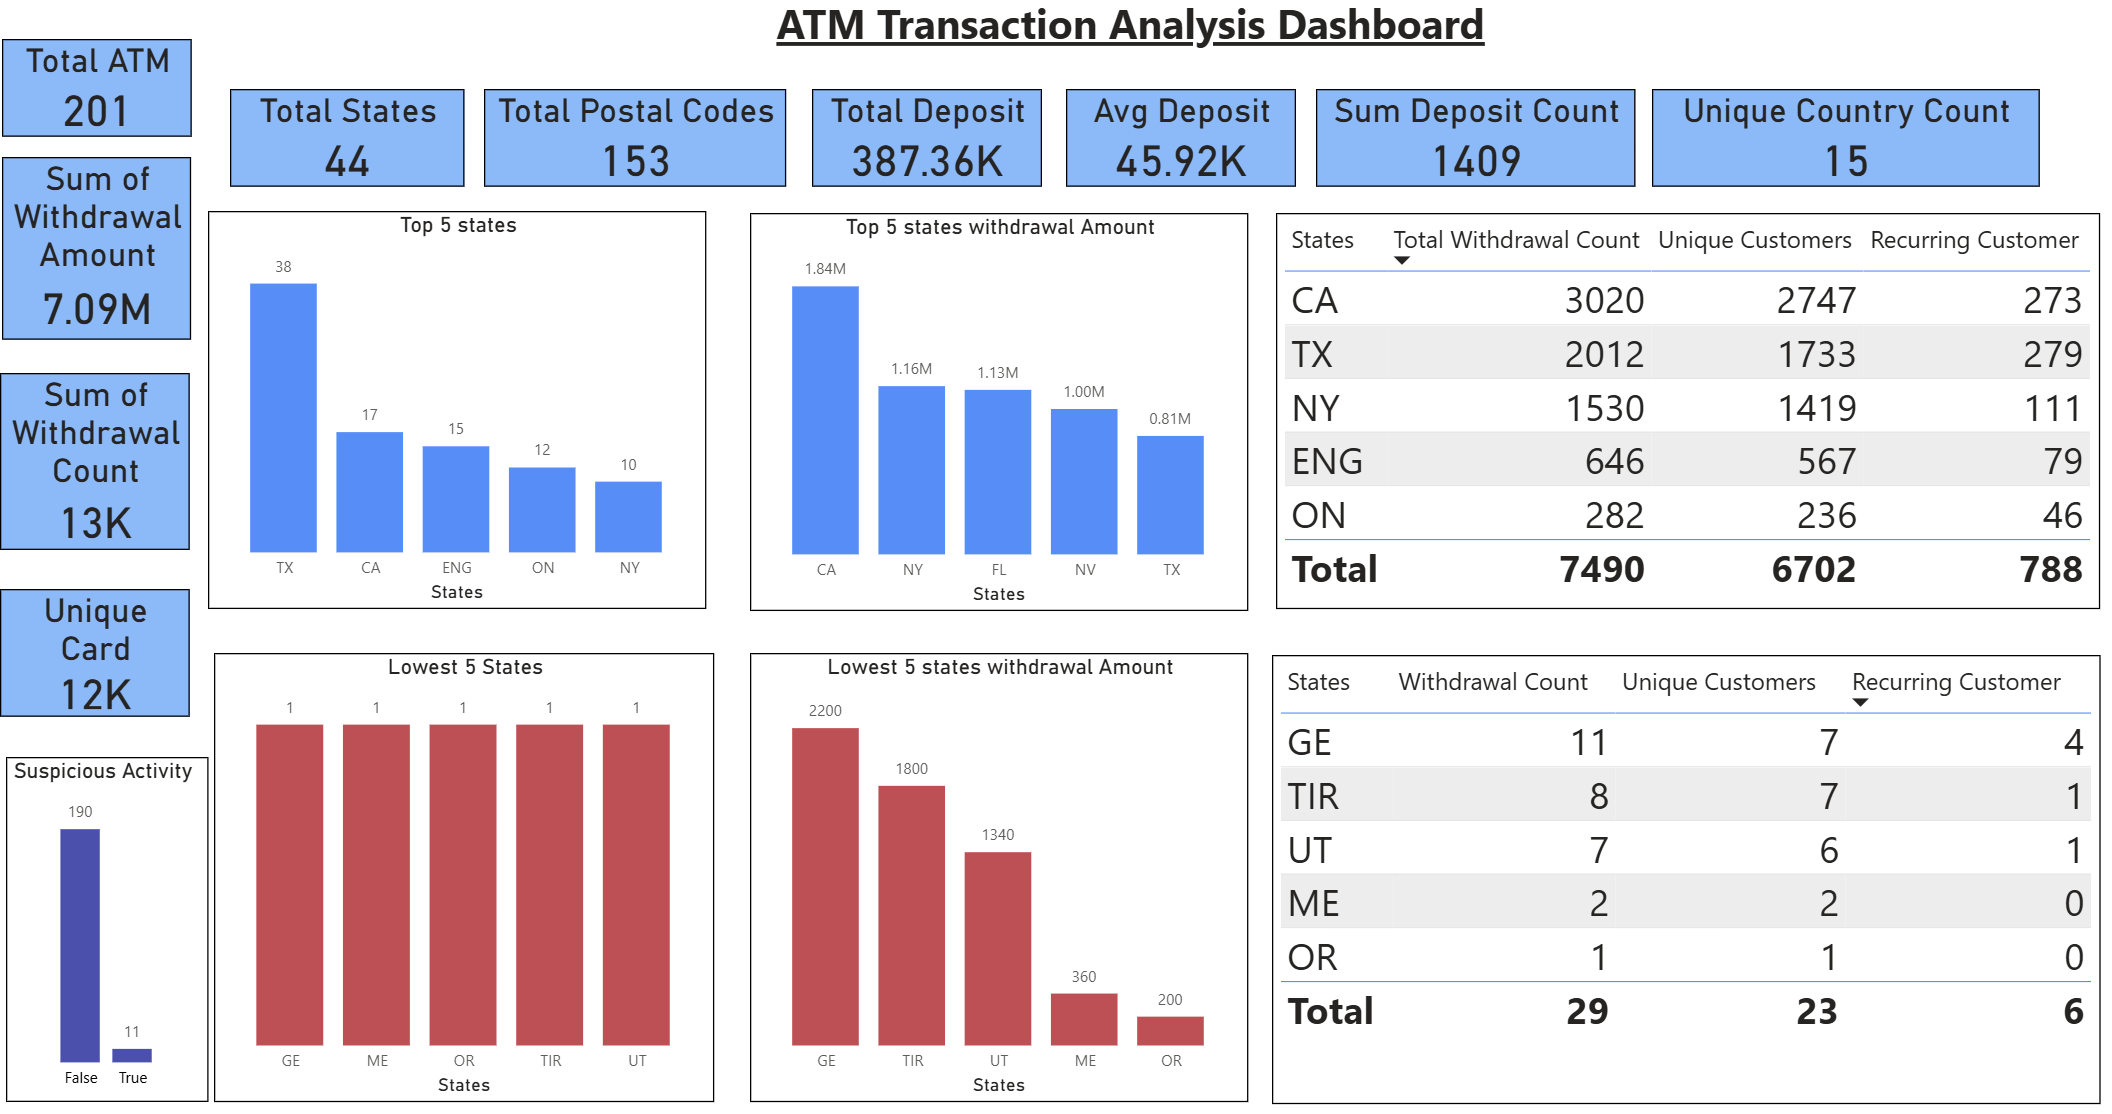

What the dashboard file says about the page in this screenshot:
{"tool":"powerbi","page":{"name":"Page 1","canvas":[1800,900],"ordinal":0},"visuals":[{"type":"card","title":"Total ATM","fields":{"Values":["Count(cleaned_data.atm_id)"]},"box":[10.7,39.8,148.5,76.6],"z":0},{"type":"card","title":"Total States","fields":{"Values":["Count(cleaned_data.location_state)"]},"box":[190,78.3,183.3,76.7],"z":1000},{"type":"card","title":"Total Postal Codes","fields":{"Values":["Count(cleaned_data.location_postal_code)"]},"box":[388.3,78.3,236.7,76.7],"z":2000},{"type":"card","title":"Total Deposit ","fields":{"Values":["Sum(cleaned_data.total_deposit_amount)"]},"box":[645,78.3,180,76.7],"z":3000},{"type":"card","title":"Avg Deposit","fields":{"Values":["Sum(cleaned_data.average_deposit_amount)"]},"box":[843.3,78.3,180,76.7],"z":4000},{"type":"card","title":"Sum Deposit Count","fields":{"Values":["Sum(cleaned_data.total_deposit_count)"]},"box":[1040,78.3,250,76.7],"z":5000},{"type":"card","title":"Sum of Withdrawal Amount","fields":{"Values":["Sum(cleaned_data.total_withdrawal_amount)"]},"box":[10.2,131.3,147.9,142.8],"z":6000},{"type":"card","title":"Sum of Withdrawal Count","fields":{"Values":["Sum(cleaned_data.total_withdrawal_count)"]},"box":[10,300,148.3,138.3],"z":7000},{"type":"card","title":"Unique Card ","fields":{"Values":["Sum(cleaned_data.unique_card_count)"]},"box":[10,470,148.3,100],"z":8000},{"type":"clusteredColumnChart","title":"Top 5 states ","fields":{"Category":["cleaned_data.location_state"],"Y":["CountNonNull(cleaned_data.total_withdrawal_count)"]},"box":[171.7,173.3,390,311.7],"z":9000},{"type":"clusteredColumnChart","title":"Top 5 states withdrawal Amount","fields":{"Category":["cleaned_data.location_state"],"Y":["Sum(cleaned_data.total_withdrawal_amount)"]},"box":[596.7,175,390,311.7],"z":10000},{"type":"clusteredColumnChart","title":"Lowest 5 States","fields":{"Category":["cleaned_data.location_state"],"Y":["CountNonNull(cleaned_data.total_withdrawal_count)"]},"box":[176.7,520,391.7,351.7],"z":11000},{"type":"clusteredColumnChart","title":"Lowest 5 states withdrawal Amount","fields":{"Category":["cleaned_data.location_state"],"Y":["Sum(cleaned_data.total_withdrawal_amount)"]},"box":[596.7,520,390,351.7],"z":12000},{"type":"tableEx","fields":{"Values":["cleaned_data.location_state","Sum(cleaned_data.total_withdrawal_count)","Sum(cleaned_data.unique_card_count)","Sum(cleaned_data.Difference)"]},"box":[1008.3,175,645,310],"z":13000},{"type":"tableEx","fields":{"Values":["cleaned_data.location_state","Sum(cleaned_data.total_withdrawal_count)","Sum(cleaned_data.unique_card_count)","Sum(cleaned_data.Difference)"]},"box":[1005,521.7,648.3,351.7],"z":14000},{"type":"columnChart","title":"Suspicious Activity","fields":{"Category":["cleaned_data.suspicious_activity_flag"],"Y":["CountNonNull(cleaned_data.suspicious_activity_flag)"]},"box":[13.3,601.7,158.3,270],"z":15000},{"type":"card","title":"Unique Country Count","fields":{"Values":["Count(cleaned_data.location_country)"]},"box":[1301.7,78.3,303.3,76.7],"z":16000},{"type":"textbox","box":[611.7,0,593.3,75],"z":16001}]}

Visuals, with their boxes on the page's 1800x900 design canvas (x1, y1, x2, y2). These are canvas units, not pixel positions in the 2112x1114 screenshot, which may show the page scaled, cropped or inside an application window:
"Total ATM" card: x1=11 y1=40 x2=159 y2=116
"Total States" card: x1=190 y1=78 x2=373 y2=155
"Total Postal Codes" card: x1=388 y1=78 x2=625 y2=155
"Total Deposit " card: x1=645 y1=78 x2=825 y2=155
"Avg Deposit" card: x1=843 y1=78 x2=1023 y2=155
"Sum Deposit Count" card: x1=1040 y1=78 x2=1290 y2=155
"Sum of Withdrawal Amount" card: x1=10 y1=131 x2=158 y2=274
"Sum of Withdrawal Count" card: x1=10 y1=300 x2=158 y2=438
"Unique Card " card: x1=10 y1=470 x2=158 y2=570
"Top 5 states " clusteredColumnChart: x1=172 y1=173 x2=562 y2=485
"Top 5 states withdrawal Amount" clusteredColumnChart: x1=597 y1=175 x2=987 y2=487
"Lowest 5 States" clusteredColumnChart: x1=177 y1=520 x2=568 y2=872
"Lowest 5 states withdrawal Amount" clusteredColumnChart: x1=597 y1=520 x2=987 y2=872
tableEx - cleaned_data.location_state x Sum(cleaned_data.total_withdrawal_count): x1=1008 y1=175 x2=1653 y2=485
tableEx - cleaned_data.location_state x Sum(cleaned_data.total_withdrawal_count): x1=1005 y1=522 x2=1653 y2=873
"Suspicious Activity" columnChart: x1=13 y1=602 x2=172 y2=872
"Unique Country Count" card: x1=1302 y1=78 x2=1605 y2=155
textbox: x1=612 y1=0 x2=1205 y2=75
